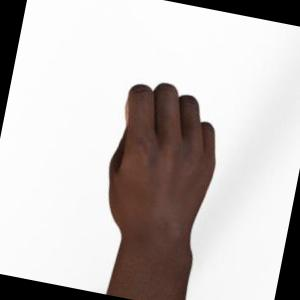rock: (106, 84, 215, 300)
